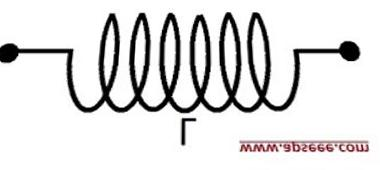inductor: (55, 1, 328, 114)
